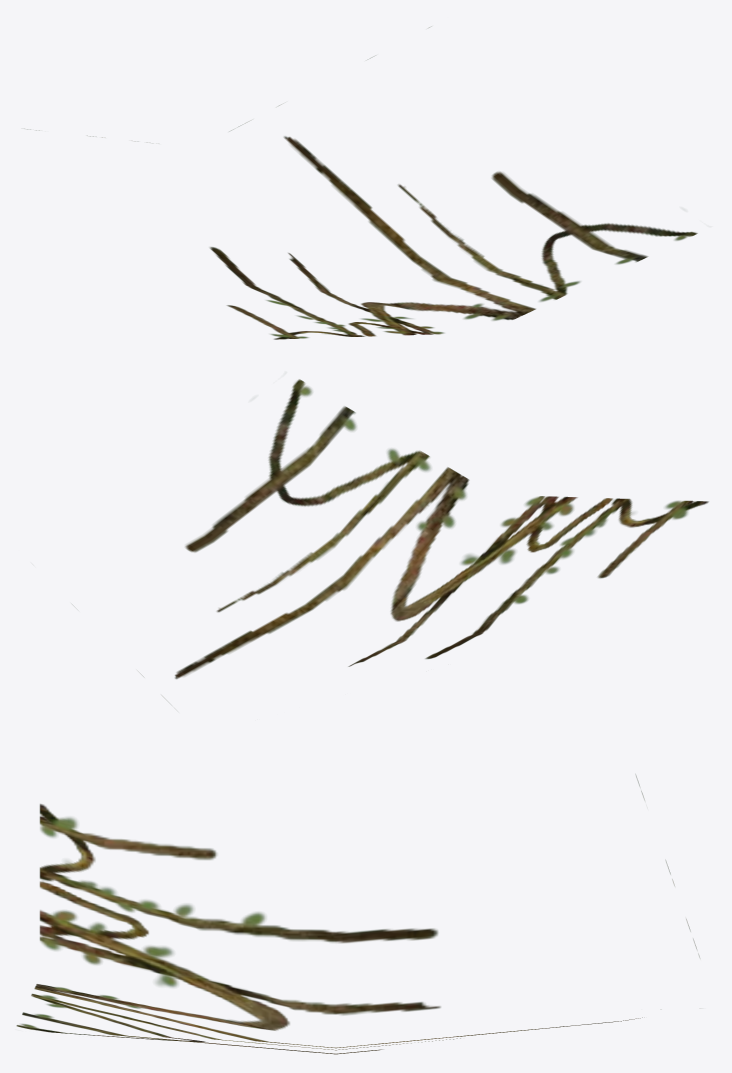
3 views of the same model, one above another, from view 1: azimuth 30°, elevation 25°; view 2: azimuth 150°, elevation 25°; view 3: azimuth 270°, elevation 25° (orthographic). The views are drawn at different scales.
Parts seen in each view (by area): view 1: model_object16; view 2: model_object16; view 3: model_object16.
Boxes of the visible parts, x1,y1,x2,y2 form: model_object16: (27, 26, 697, 339); model_object16: (141, 379, 708, 678); model_object16: (16, 774, 699, 1054).
Size of the model in its own units: 0.9811 by 0.2639 by 1.05.
1 material, 1 textured.
